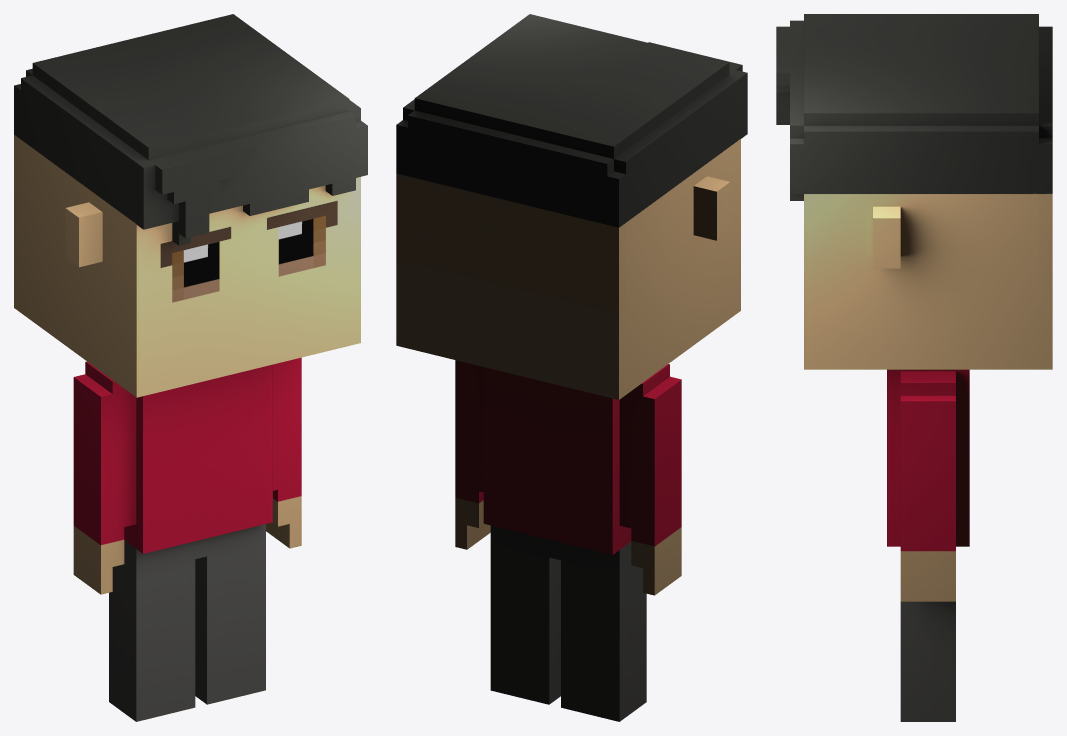
Rendered from ARPVOX.glb.
The picture shows the model from 3 angles, left to right: view 1: azimuth 30°, elevation 25°; view 2: azimuth 150°, elevation 25°; view 3: azimuth 270°, elevation 25°; orthographic projection. The views are drawn at different scales.
Visible parts, largest first — view 1: VoxFileItem0.vox; view 2: VoxFileItem0.vox; view 3: VoxFileItem0.vox.
Part boxes in pixels (bbox=[...]): VoxFileItem0.vox: bbox=[14, 14, 367, 721]; VoxFileItem0.vox: bbox=[396, 14, 747, 721]; VoxFileItem0.vox: bbox=[776, 14, 1052, 721].
Bounding box in the file's own units: 2.3 × 5 × 2.
1 material, 1 textured.
